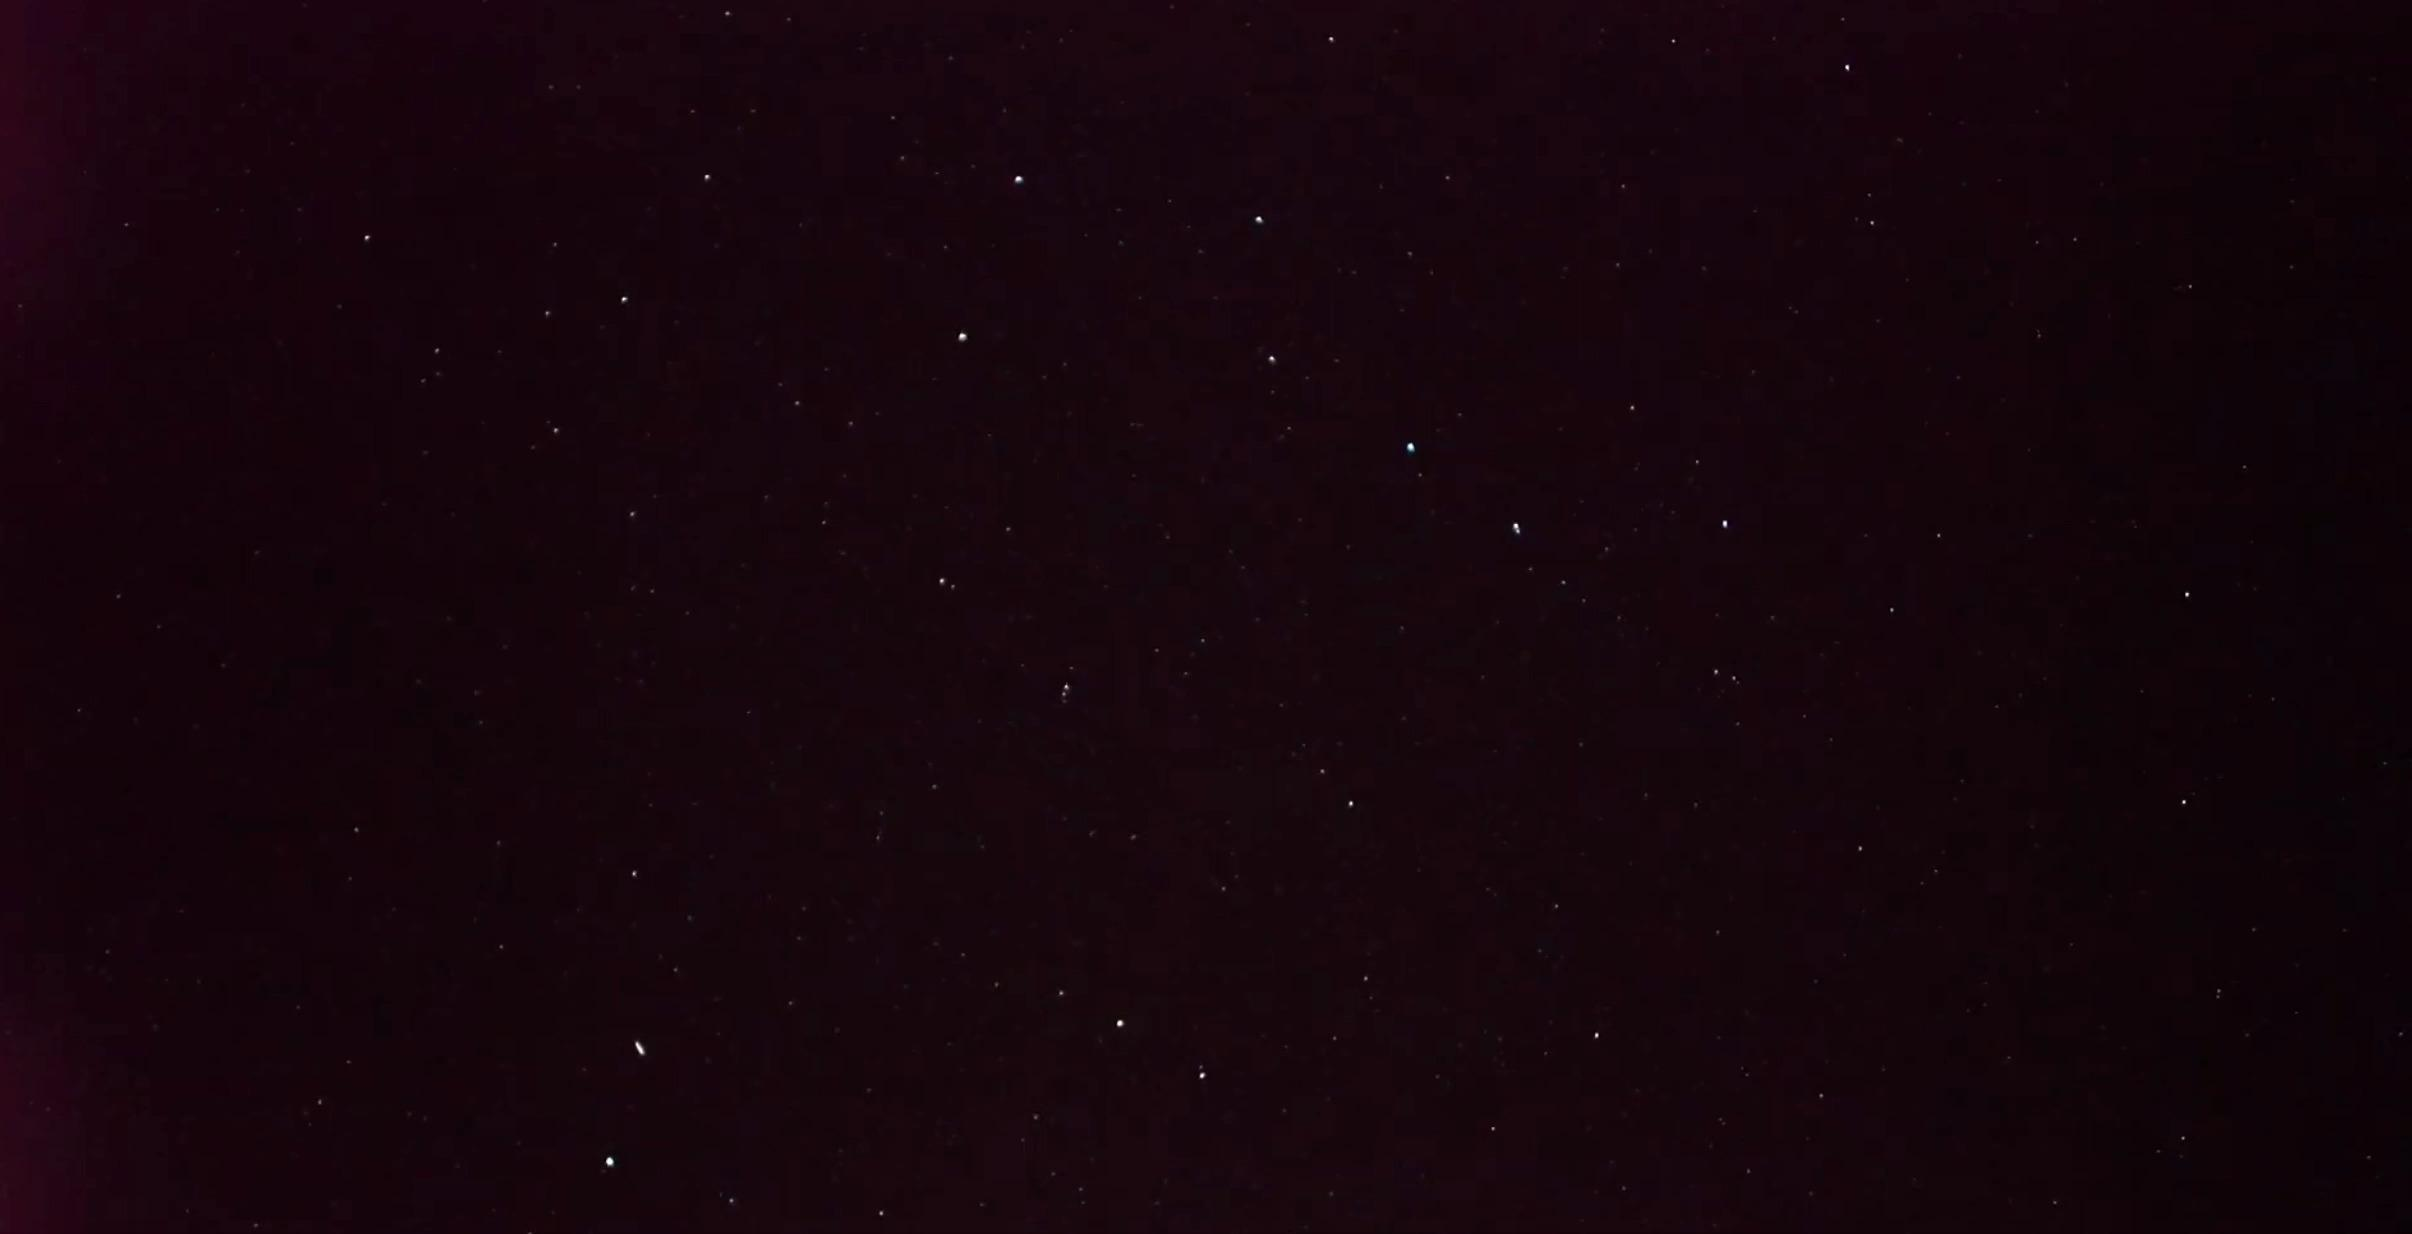meteorite: (618, 1026, 656, 1081)
